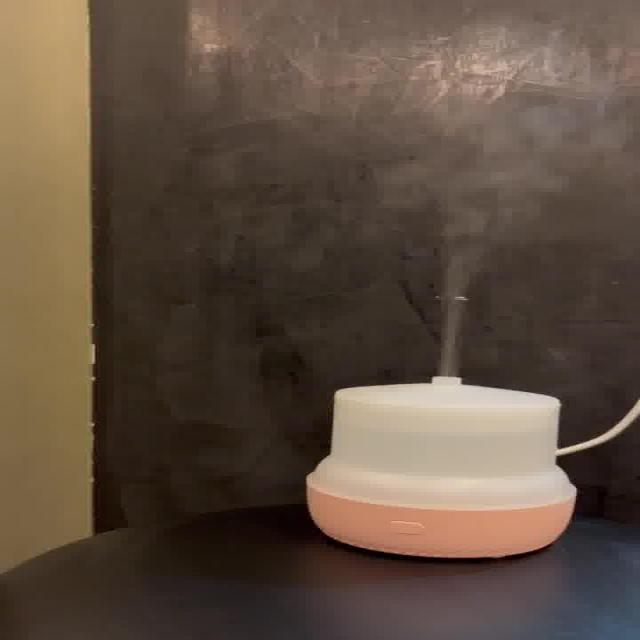fire: (407, 104, 570, 372)
